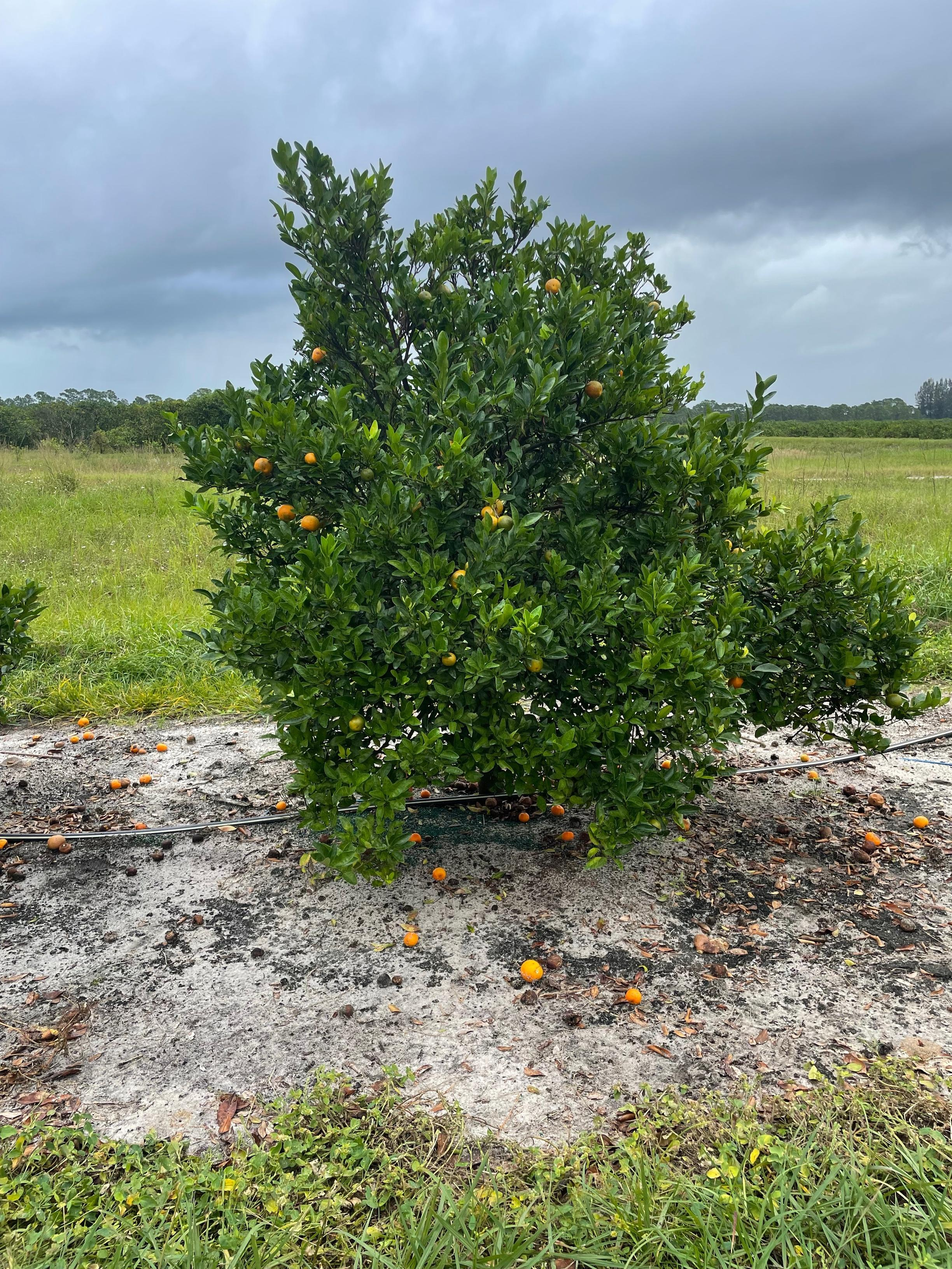fruit_on_ground: (447, 568, 473, 593), (345, 711, 367, 732), (276, 502, 297, 523), (300, 513, 321, 533), (584, 379, 604, 400), (253, 456, 274, 476), (480, 514, 500, 534), (524, 654, 545, 673), (726, 674, 746, 692), (309, 346, 329, 364), (486, 498, 506, 516), (884, 692, 903, 710), (497, 514, 515, 532), (544, 277, 562, 295), (440, 651, 457, 668), (479, 505, 497, 520), (359, 467, 375, 483), (646, 300, 662, 315), (303, 451, 319, 466), (730, 546, 747, 560), (418, 289, 432, 304), (720, 538, 734, 551)
fruit_on_tree: (519, 958, 545, 983), (849, 848, 872, 865), (624, 986, 643, 1005), (863, 830, 883, 848), (868, 790, 887, 807), (815, 823, 833, 840), (402, 930, 419, 947), (46, 833, 64, 849), (430, 865, 447, 881), (912, 814, 930, 829), (677, 816, 693, 832), (842, 782, 859, 797), (549, 801, 566, 816), (407, 830, 424, 844), (58, 840, 74, 854), (517, 793, 534, 806), (559, 828, 575, 841), (150, 848, 164, 862), (273, 798, 288, 811), (484, 795, 498, 808), (418, 787, 432, 800), (124, 864, 138, 877), (517, 810, 531, 823), (190, 834, 205, 846), (161, 837, 174, 850), (806, 768, 819, 781), (76, 716, 90, 728), (133, 820, 148, 831), (798, 752, 811, 764), (660, 757, 673, 769), (109, 778, 122, 790), (155, 741, 168, 753), (138, 773, 152, 784), (118, 778, 131, 789), (82, 730, 95, 741), (185, 734, 197, 745), (68, 734, 80, 745), (32, 732, 43, 743), (0, 837, 10, 849), (137, 747, 149, 756), (128, 744, 139, 753)
